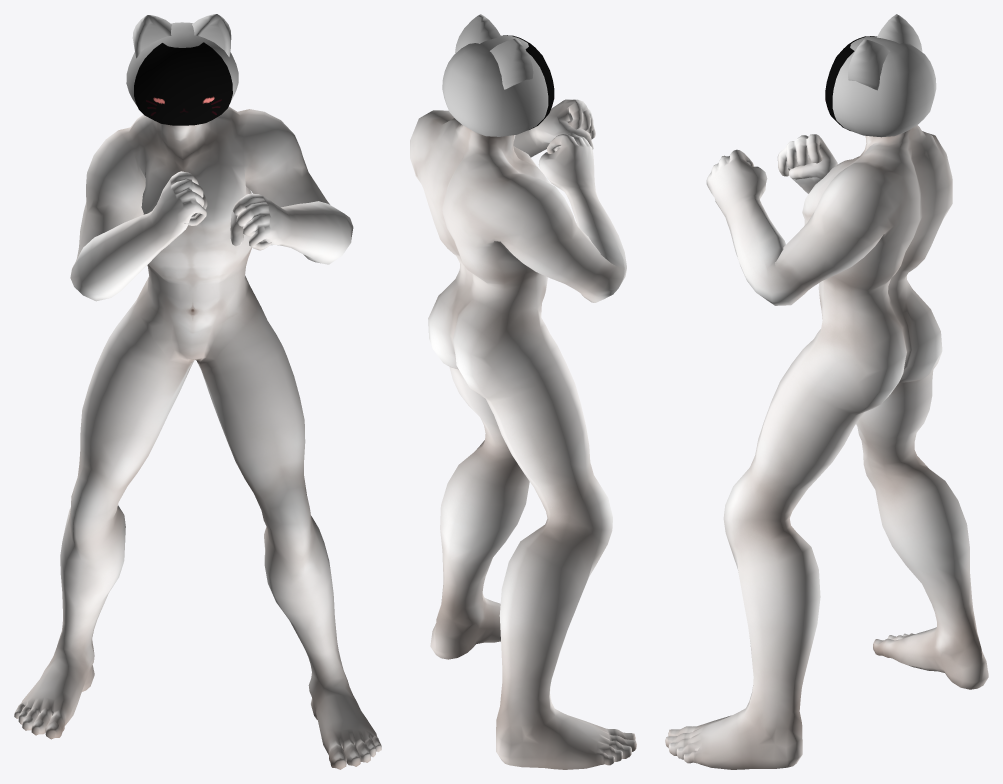
3 renders of one model, left to right at view 1: azimuth 30°, elevation 25°; view 2: azimuth 150°, elevation 25°; view 3: azimuth 270°, elevation 25°, orthographic.
Parts seen in each view (by area): view 1: Muscle_Body, ______?001, Cat_Head; view 2: Muscle_Body, Cat_Head, ______?001; view 3: Muscle_Body, Cat_Head, ______?001.
Boxes of the visible parts, x1,y1,x2,y2 form: Muscle_Body: [14, 107, 381, 769]; ______?001: [134, 42, 232, 125]; Cat_Head: [126, 14, 238, 106]; Muscle_Body: [410, 99, 636, 769]; Cat_Head: [442, 14, 548, 136]; ______?001: [503, 35, 554, 129]; Muscle_Body: [665, 125, 988, 769]; Cat_Head: [832, 14, 936, 137]; ______?001: [825, 36, 874, 130].
Size of the model in its own units: 11.18 by 28.27 by 12.
